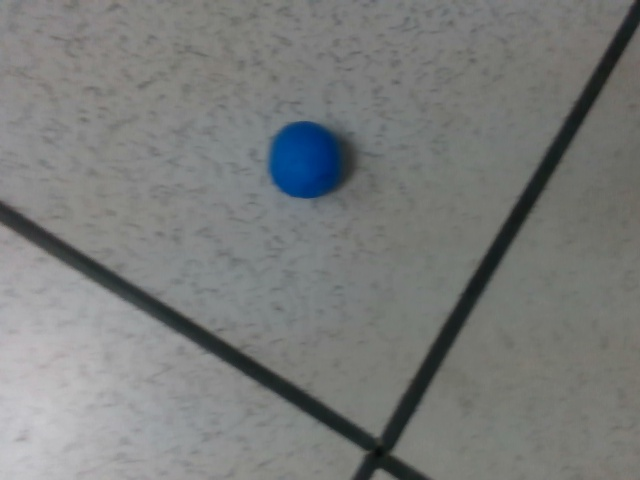blueball: (262, 119, 346, 198)
